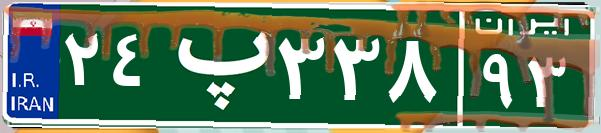2: (57, 26, 110, 107)
3: (273, 28, 330, 110), (330, 28, 385, 110), (525, 38, 570, 115)
4: (110, 28, 158, 105)
8: (385, 28, 445, 110)
9: (475, 38, 525, 113)
پ: (158, 15, 273, 115)
